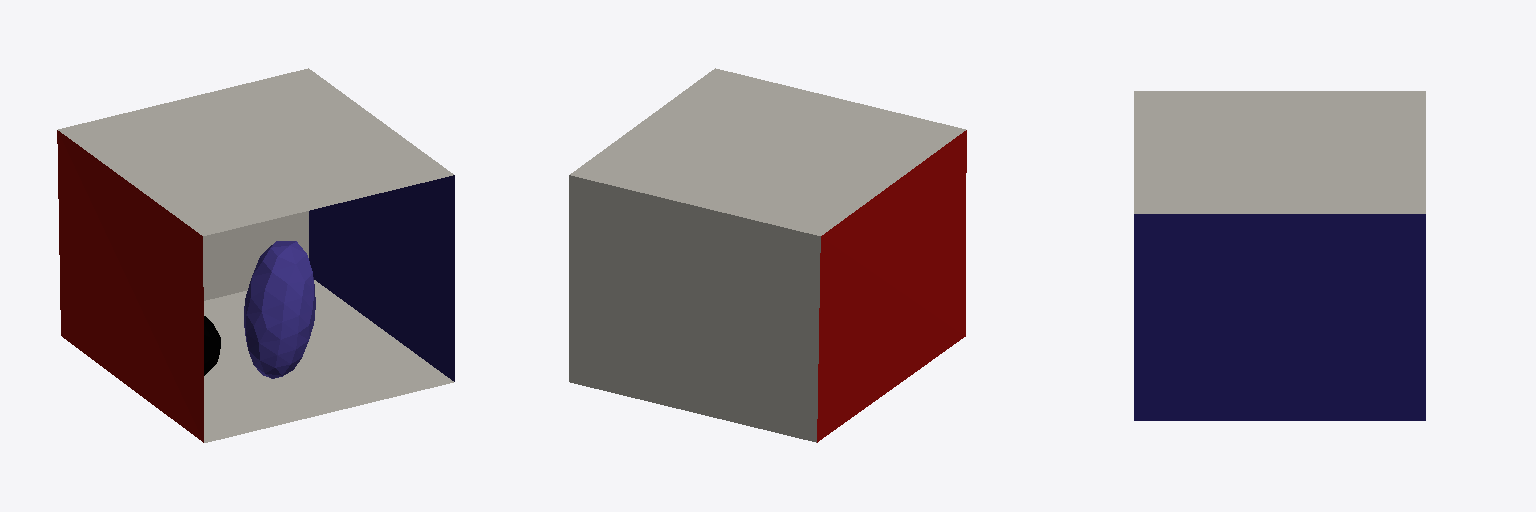
File: CornellBox-Ellipsoid-369.obj
3 views of the same model, side by side, from view 1: azimuth 30°, elevation 25°; view 2: azimuth 150°, elevation 25°; view 3: azimuth 270°, elevation 25° (orthographic).
Parts seen in each view (by area): view 1: ceiling, leftWall, rightWall, floor, leftSphere, backWall, rightSphere; view 2: backWall, ceiling, leftWall; view 3: rightWall, ceiling.
Part boxes in pixels (x1,y1,x2,y2): ceiling: (58, 68, 453, 235); leftWall: (57, 130, 203, 442); rightWall: (309, 175, 454, 381); floor: (204, 280, 453, 442); leftSphere: (244, 241, 315, 378); backWall: (203, 211, 308, 300); rightSphere: (204, 316, 220, 375); backWall: (569, 175, 820, 442); ceiling: (570, 68, 965, 235); leftWall: (817, 130, 966, 442); rightWall: (1134, 214, 1425, 420); ceiling: (1134, 91, 1425, 213).
Bounding box in the file's own units: 2.02 × 1.59 × 2.03.